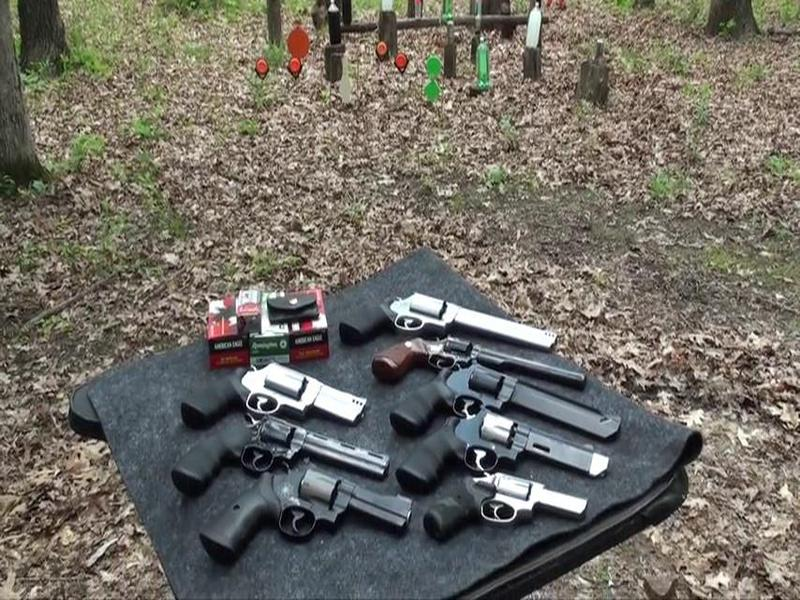Revolver: (177, 456, 411, 571), (347, 269, 567, 373), (167, 328, 361, 445), (416, 449, 587, 556)
